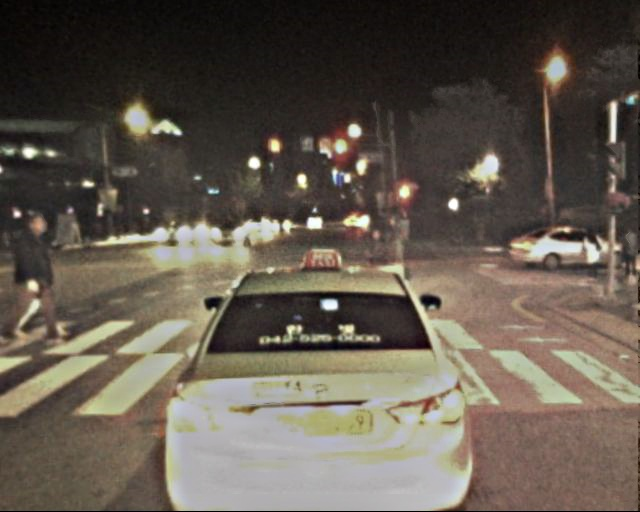person: (15, 206, 69, 342), (366, 230, 407, 307), (581, 229, 605, 288), (617, 227, 639, 285)
